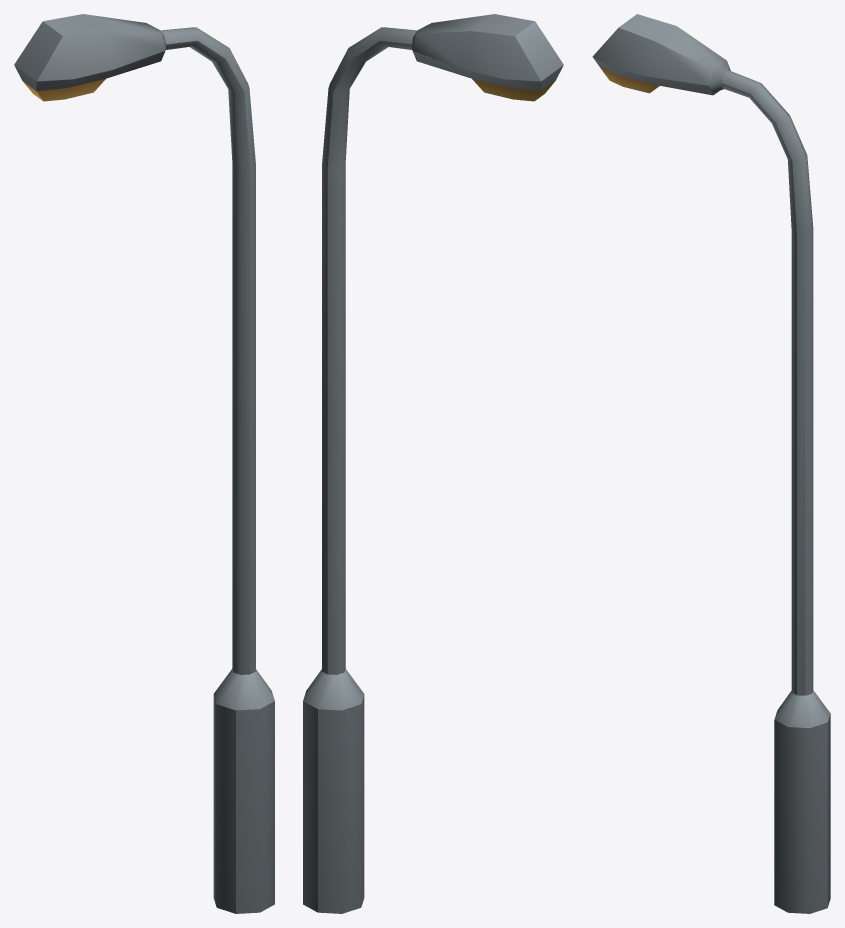
File: streetlight.glb
The picture shows the model from 3 angles, left to right: view 1: azimuth 30°, elevation 25°; view 2: azimuth 150°, elevation 25°; view 3: azimuth 330°, elevation 25°; orthographic projection. The views are drawn at different scales.
Parts seen in each view (by area): view 1: streetlight; view 2: streetlight; view 3: streetlight.
Part boxes in pixels (x1=…): streetlight: x1=14, y1=14, x2=274, y2=913; streetlight: x1=303, y1=14, x2=563, y2=913; streetlight: x1=592, y1=14, x2=830, y2=913.
Bounding box in the file's own units: 0.2693 × 0.9599 × 0.069.
1 material, 1 textured.
